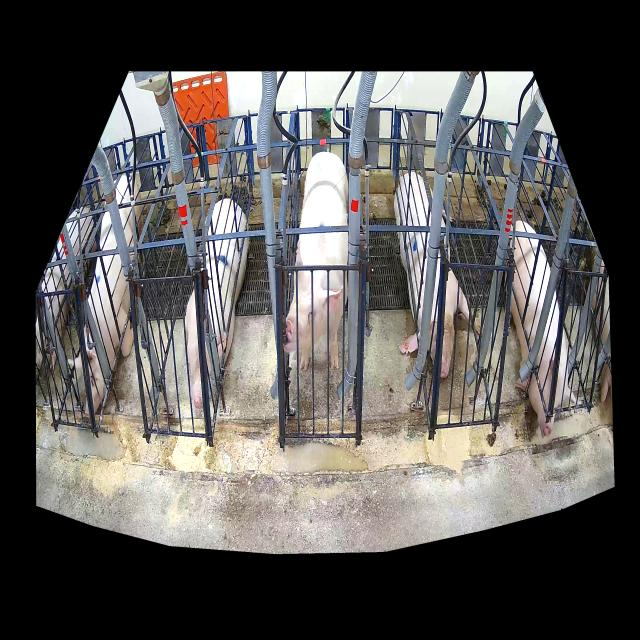pig: (75, 176, 146, 417), (394, 172, 469, 378), (510, 221, 576, 439), (284, 152, 348, 370), (184, 199, 248, 409)
